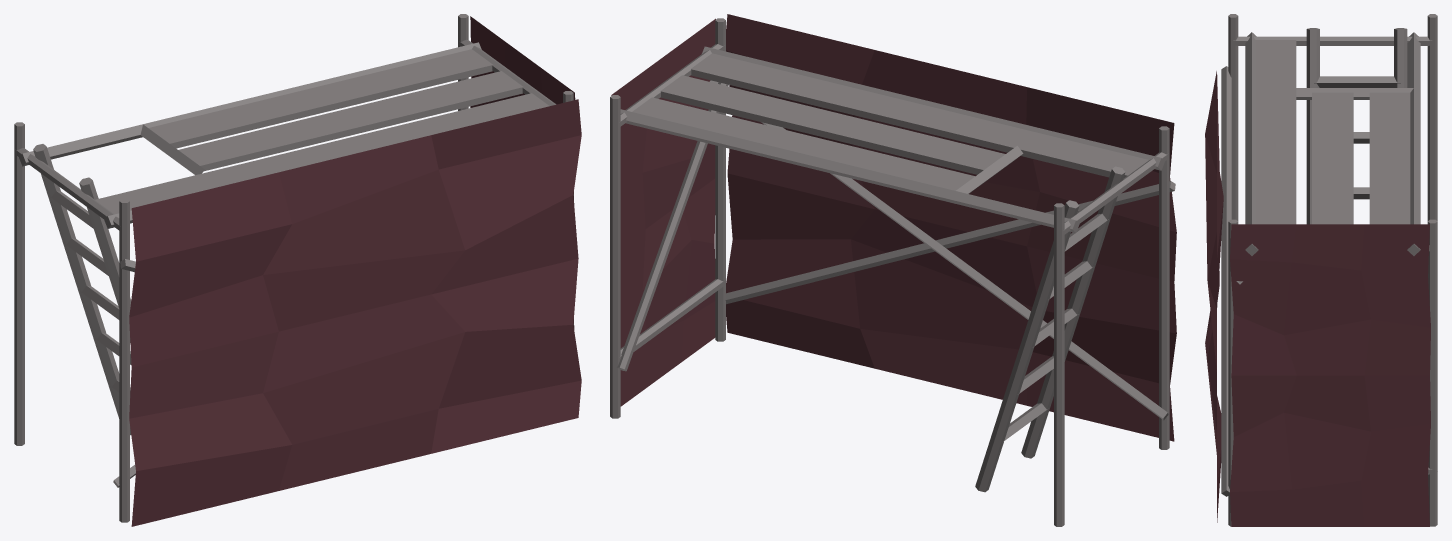
Rendered from construction-scaffolding-ladder-end-covered.glb.
The picture shows the model from 3 angles, left to right: view 1: azimuth 30°, elevation 25°; view 2: azimuth 150°, elevation 25°; view 3: azimuth 270°, elevation 25°; orthographic projection. The views are drawn at different scales.
Parts seen in each view (by area): view 1: scaffolding-ladder-end-covered; view 2: scaffolding-ladder-end-covered; view 3: scaffolding-ladder-end-covered.
Boxes of the visible parts, x1,y1,x2,y2 form: scaffolding-ladder-end-covered: [14, 14, 581, 526]; scaffolding-ladder-end-covered: [610, 14, 1176, 526]; scaffolding-ladder-end-covered: [1205, 14, 1437, 526].
Bounding box in the file's own units: 3.01 × 2.01 × 1.39.
